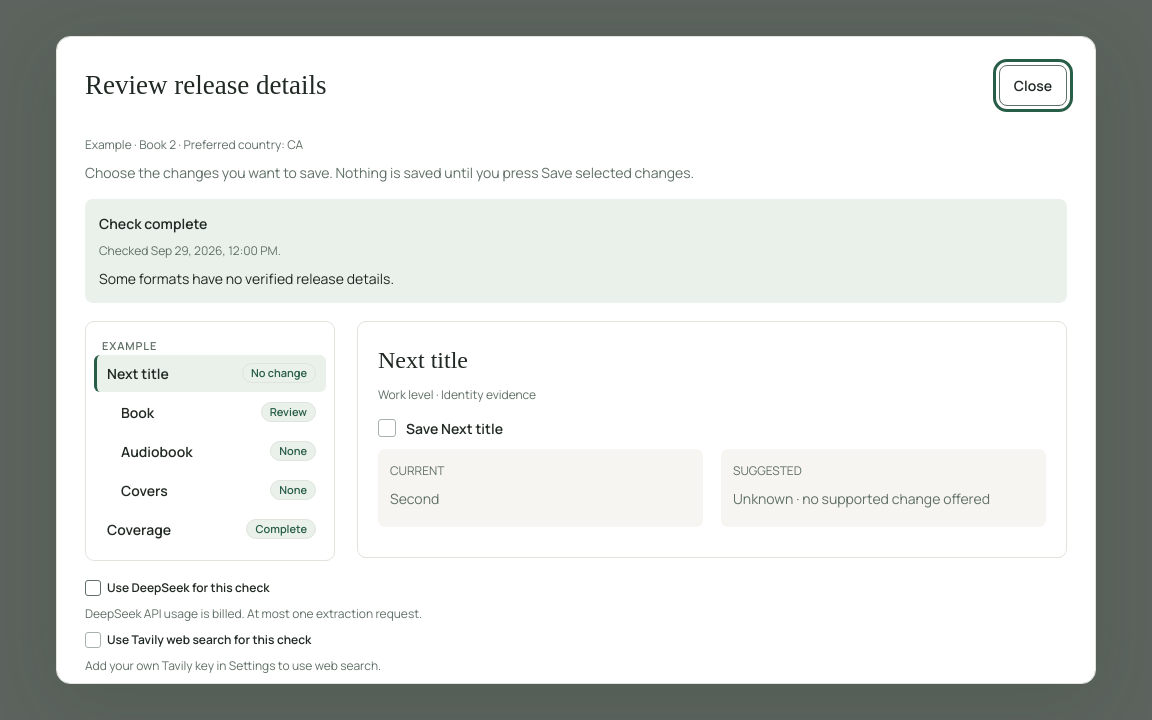
Test: recoverable save error preserves selection and current manual details
Step 1. Click the tab "Book Review" → (217,412), box [108,394,326,430]
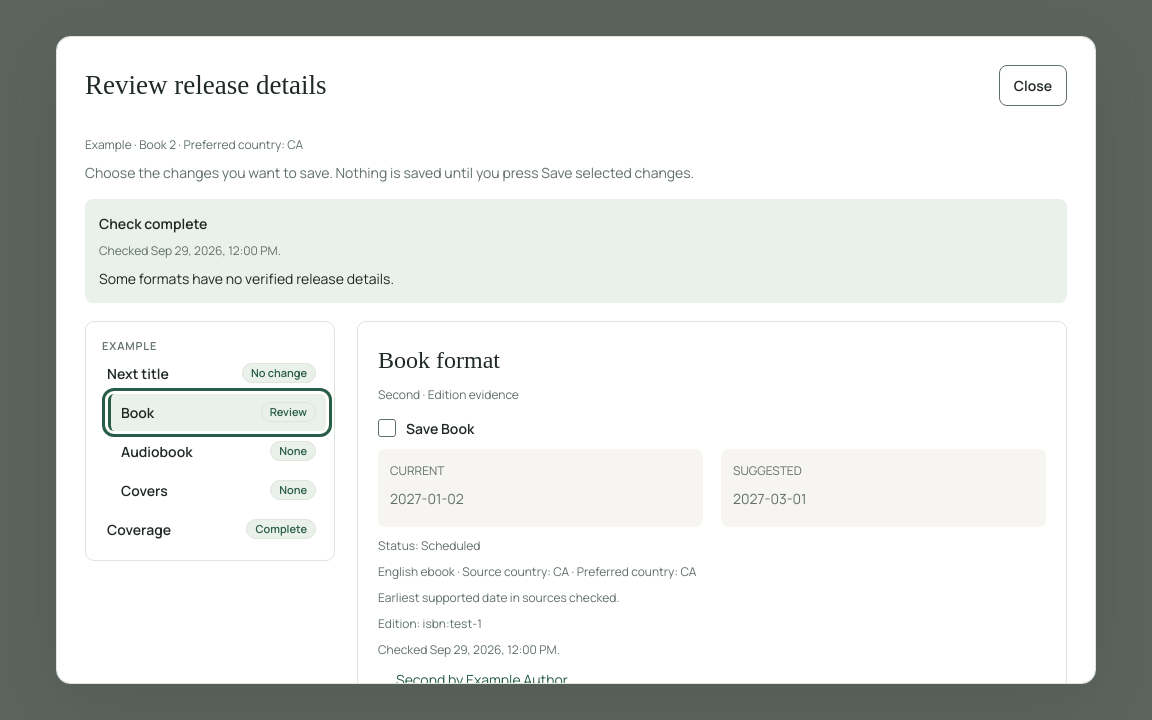
Step 2. Click the checkbox labelled "Save Book" → (387,428), box [378,419,396,437]
(page scrolled)
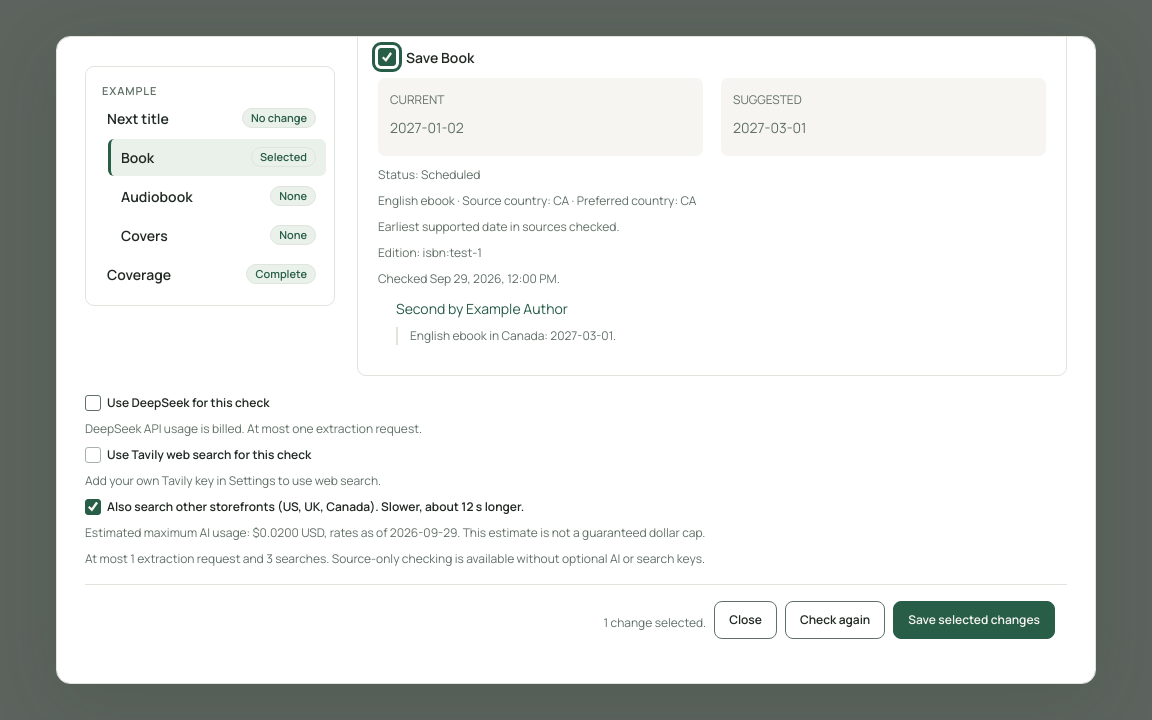
Step 3. Click the button "Save selected changes" → (974,620), box [893,600,1055,638]
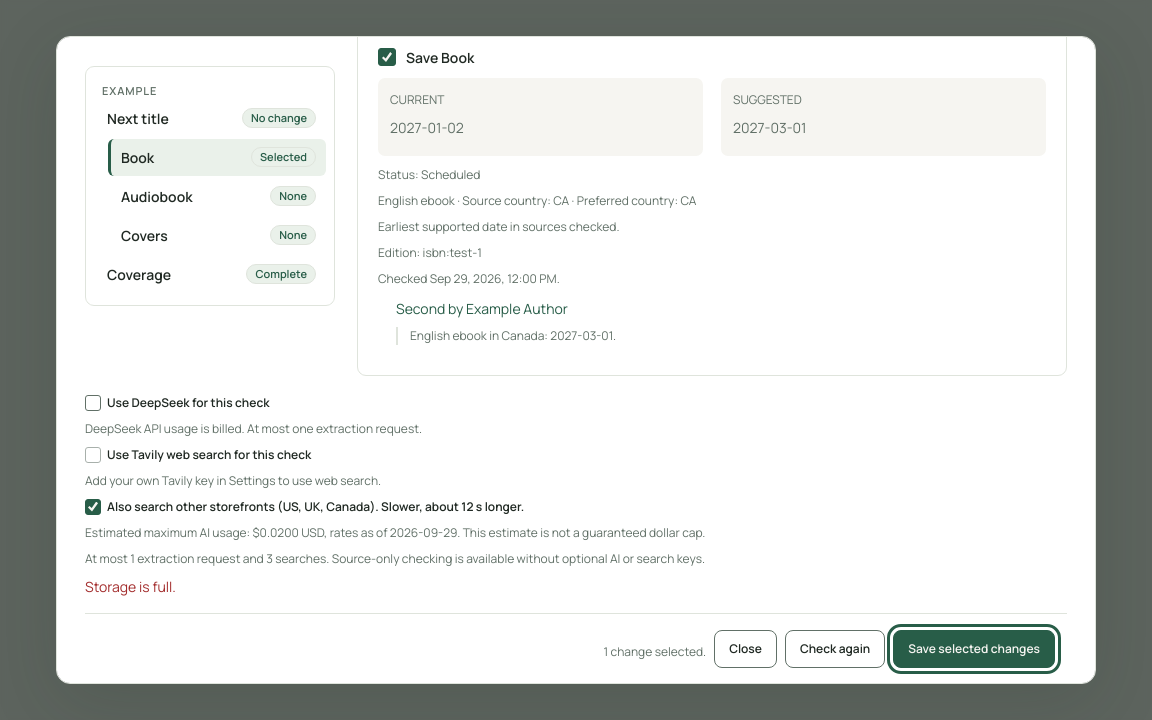
Expected: the checkbox labelled "Save Book" is checked, [378,48,396,66]
Expected: the text "2027-01-02" is shown, [390,118,464,136]
Expected: the message "Storage is full." is shown, [85,576,176,596]
